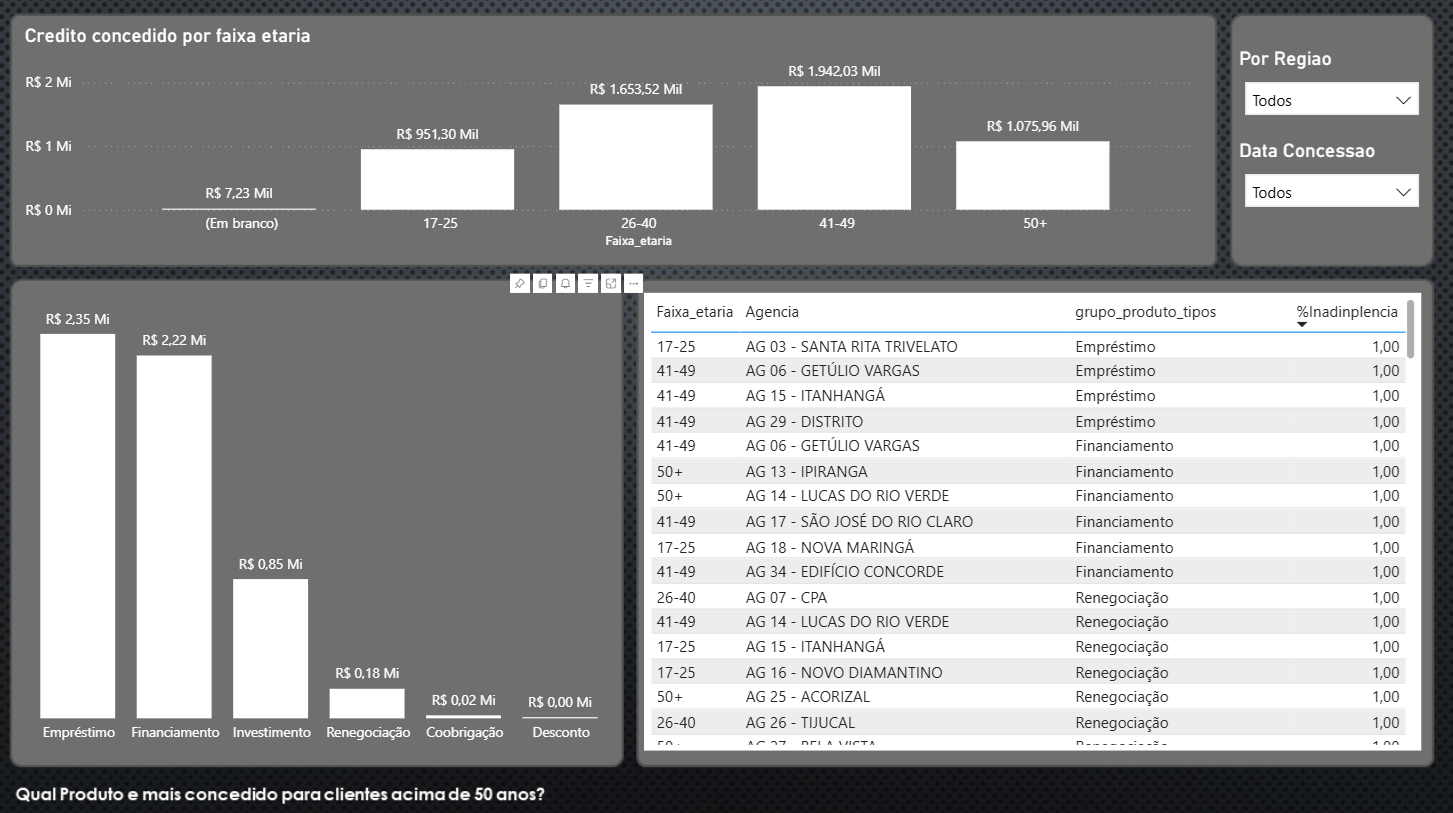

The page's visual inventory and layout, read from the dashboard file:
{"tool":"powerbi","page":{"name":"Perfil de Cliente e Produtos","canvas":[1280,720],"ordinal":2},"visuals":[{"type":"slicer","title":"Data Concessao","fields":{"Values":["Operações.data_referencia_concessao"]},"box":[1085,121,172,63],"z":0},{"type":"slicer","title":"Por Regiao","fields":{"Values":["Agencia.Regional"]},"box":[1085,41,172,63],"z":1000},{"type":"columnChart","title":"Credito concedido por faixa etaria","fields":{"Category":["Pessoas.Faixa_etaria"],"Y":["Sum(Operações.saldo_total)"]},"box":[20,20,1035,202],"z":2000},{"type":"clusteredColumnChart","fields":{"Category":["Operações.grupo_produto_tipos"],"Y":["Operações.total_de_saldo"]},"box":[0,257,568,402],"z":3000},{"type":"tableEx","fields":{"Values":["Pessoas.Faixa_etaria","Agencia.Agencia","Operações.grupo_produto_tipos","Operações.%Inadinplencia"]},"box":[568.1,256.9,681.1,401.8],"z":4000}]}

Visuals, with their boxes in screenshot pixels (x1, y1, x2, y2), scaled from the page's 1280x720 canvas onto the 1453x813 screenshot:
"Data Concessao" slicer: left=1232, top=137, right=1427, bottom=208
"Por Regiao" slicer: left=1232, top=46, right=1427, bottom=117
"Credito concedido por faixa etaria" columnChart: left=23, top=23, right=1198, bottom=251
clusteredColumnChart - Operações.grupo_produto_tipos x Operações.total_de_saldo: left=0, top=290, right=645, bottom=744
tableEx - Pessoas.Faixa_etaria x Agencia.Agencia: left=645, top=290, right=1418, bottom=744
